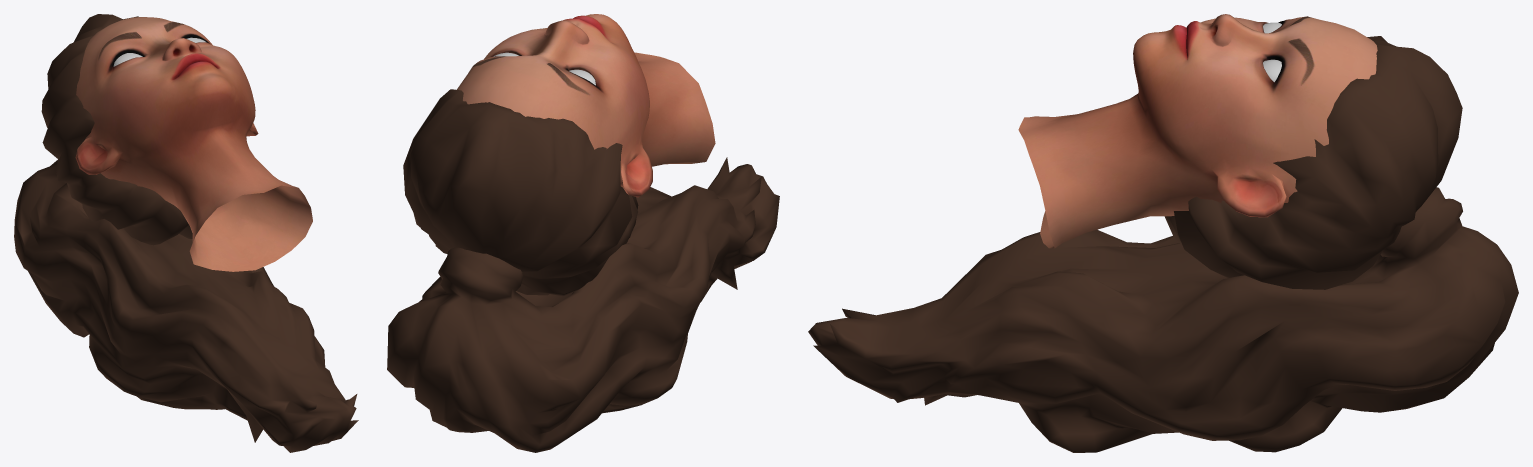
Rendered from Female_Cambodia_Head.fbx.
3 views of the same model, side by side, from view 1: azimuth 30°, elevation 25°; view 2: azimuth 150°, elevation 25°; view 3: azimuth 270°, elevation 25° (orthographic). The views are drawn at different scales.
Visible parts, largest first — view 1: Wolf3D_Hair, Wolf3D_Head; view 2: Wolf3D_Hair, Wolf3D_Head; view 3: Wolf3D_Hair, Wolf3D_Head.
Boxes of the visible parts, <box> form: Wolf3D_Hair: <box>14,14,358,452</box>; Wolf3D_Head: <box>75,17,312,271</box>; Wolf3D_Hair: <box>387,89,779,452</box>; Wolf3D_Head: <box>457,14,715,197</box>; Wolf3D_Hair: <box>808,36,1518,452</box>; Wolf3D_Head: <box>1018,14,1377,248</box>.
Size of the model in its own units: 19.36 by 36.19 by 55.25.
